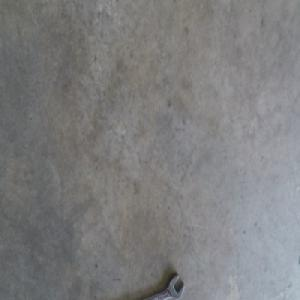Wrench: (147, 273, 186, 299)
